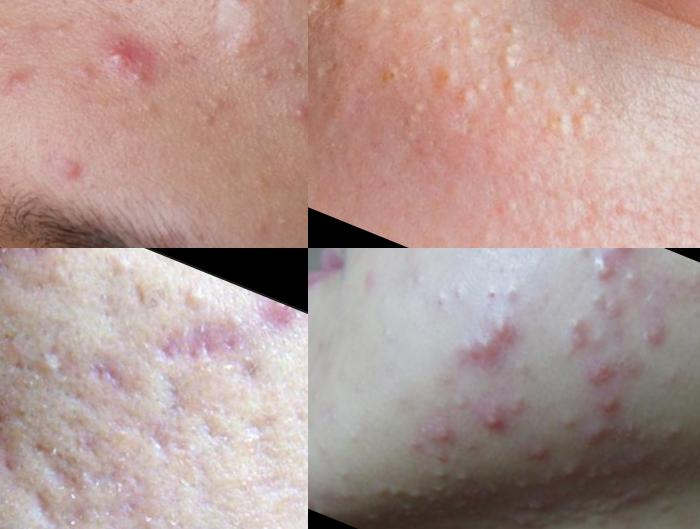acne_scars: (23, 442, 94, 501), (78, 357, 144, 414), (149, 339, 215, 389), (143, 425, 195, 471), (1, 405, 20, 462)
cystic: (450, 325, 512, 382), (574, 410, 624, 465)
milium: (441, 59, 536, 136), (431, 1, 508, 60), (539, 97, 601, 152), (561, 73, 622, 124), (491, 28, 537, 75), (494, 9, 537, 46), (309, 55, 342, 90), (325, 1, 378, 20), (470, 1, 527, 15)
papular: (86, 24, 168, 102), (53, 149, 102, 204), (1, 64, 41, 112), (583, 356, 622, 395)
purulent: (275, 89, 309, 141), (561, 312, 597, 360), (582, 249, 622, 290), (596, 378, 635, 419), (487, 306, 526, 343), (643, 320, 679, 359), (479, 408, 507, 437), (609, 249, 629, 255)
sebo-crystan-conglo: (207, 1, 282, 76), (416, 411, 463, 452), (582, 354, 618, 392)
whitehead: (371, 463, 449, 528), (91, 253, 160, 306), (34, 253, 87, 303), (23, 347, 73, 394), (191, 91, 236, 142), (247, 206, 298, 249), (178, 280, 224, 326), (422, 480, 465, 524), (41, 9, 84, 52), (431, 454, 478, 492), (652, 493, 690, 526), (658, 422, 692, 453), (561, 505, 598, 529), (508, 473, 536, 498), (254, 62, 277, 92), (284, 53, 308, 81), (598, 462, 622, 490), (336, 462, 359, 491), (561, 463, 585, 487)
